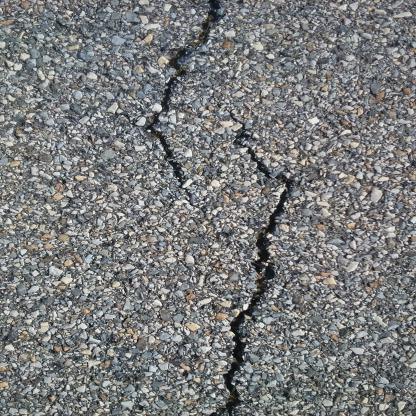Cracks: (209, 127, 313, 416), (134, 1, 242, 204)
